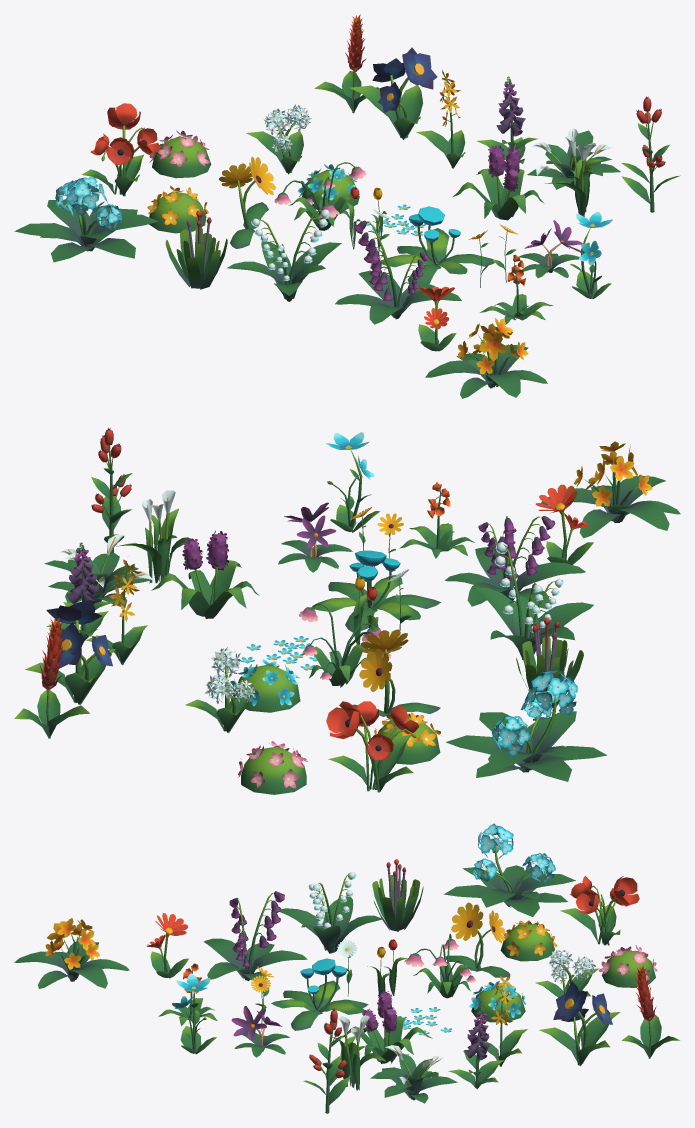
File: Flowers_01.fbx
3 views of the same model, one above another, from view 1: azimuth 30°, elevation 25°; view 2: azimuth 150°, elevation 25°; view 3: azimuth 270°, elevation 25° (orthographic). The views are drawn at different scales.
Parts seen in each view (by area): view 1: Flower.028, Flower.004, Flower.005, Flower.024, Flower.006, Flower.001, Flower.029, Flower.026, Flower.027, Flower.016, Flower.030, Flower.019 (+13 smaller); view 2: Flower.028, Flower.004, Flower.005, Flower.029, Flower.006, Flower.026, Flower.001, Flower.024, Flower.019, Flower.016, Flower.030, Flower.017 (+14 smaller); view 3: Flower.028, Flower.005, Flower.004, Flower.024, Flower.006, Flower.001, Flower.029, Flower.026, Flower.023, Flower.027, Flower.016, Flower.018 (+13 smaller).
Part boxes in pixels (x1,y1,x2,y2): Flower.028: [14, 177, 158, 262]; Flower.004: [425, 318, 547, 398]; Flower.005: [335, 220, 461, 324]; Flower.024: [349, 47, 437, 139]; Flower.006: [227, 209, 341, 301]; Flower.001: [381, 206, 494, 285]; Flower.029: [81, 103, 160, 196]; Flower.026: [452, 145, 544, 220]; Flower.027: [165, 210, 227, 289]; Flower.016: [219, 156, 275, 248]; Flower.030: [246, 104, 311, 174]; Flower.019: [149, 130, 211, 178]; Flower.028: [446, 670, 607, 781]; Flower.004: [541, 441, 680, 538]; Flower.005: [445, 516, 585, 608]; Flower.029: [326, 701, 419, 792]; Flower.006: [475, 542, 593, 660]; Flower.026: [151, 530, 259, 618]; Flower.001: [312, 550, 440, 632]; Flower.024: [25, 600, 115, 704]; Flower.019: [238, 741, 307, 794]; Flower.016: [341, 629, 440, 716]; Flower.030: [185, 647, 256, 732]; Flower.017: [231, 659, 300, 712]; Flower.028: [444, 823, 575, 916]; Flower.005: [204, 891, 307, 982]; Flower.004: [14, 918, 129, 988]; Flower.024: [539, 981, 620, 1065]; Flower.006: [280, 871, 383, 953]; Flower.001: [271, 958, 368, 1030]; Flower.029: [560, 876, 639, 945]; Flower.026: [342, 991, 432, 1063]; Flower.023: [370, 1045, 457, 1103]; Flower.027: [372, 859, 423, 931]; Flower.016: [446, 902, 510, 977]; Flower.018: [500, 920, 557, 961].
Size of the model in its own units: 6.76 by 1.39 by 7.98.
